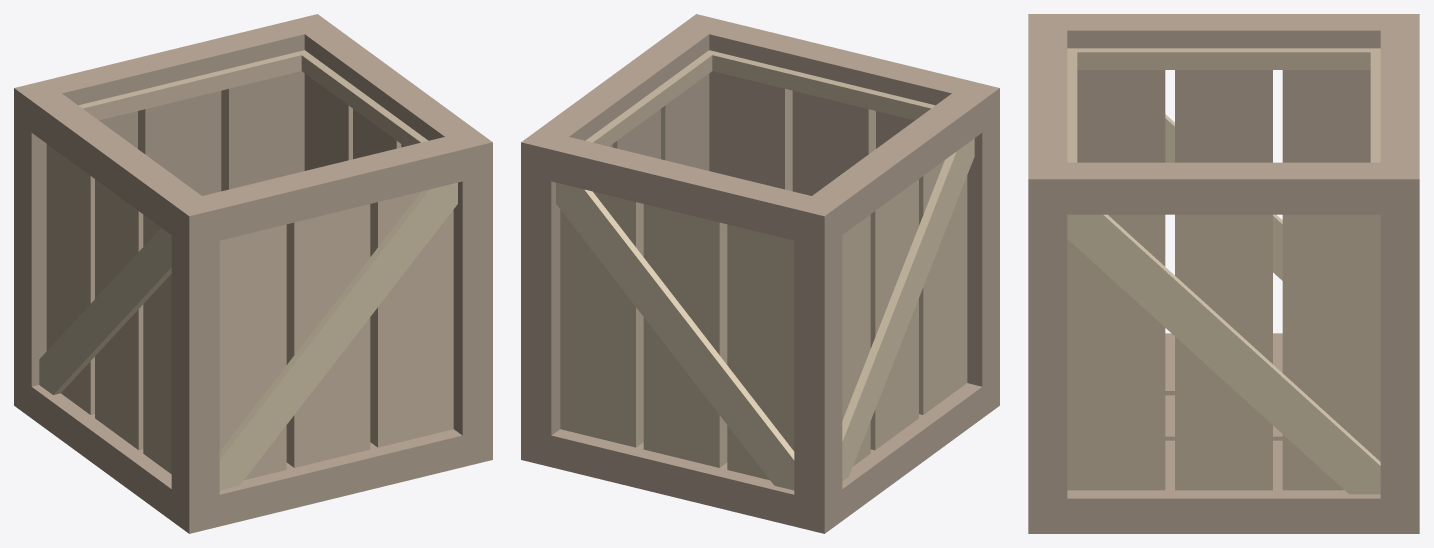
Rendered from Prop_Crate_1_Open.glb.
3 views of the same model, side by side, from view 1: azimuth 30°, elevation 25°; view 2: azimuth 150°, elevation 25°; view 3: azimuth 270°, elevation 25° (orthographic). The views are drawn at different scales.
Parts seen in each view (by area): view 1: object5, object2, object3; view 2: object5, object4, object3; view 3: object5, object6, object3.
Part boxes in pixels (left/top/right/bottom): object5: left=14, top=14, right=492, bottom=533; object2: left=219, top=182, right=457, bottom=490; object3: left=39, top=227, right=171, bottom=394; object5: left=521, top=14, right=999, bottom=533; object4: left=556, top=182, right=794, bottom=490; object3: left=842, top=138, right=974, bottom=481; object5: left=1028, top=14, right=1419, bottom=533; object6: left=1067, top=214, right=1380, bottom=494; object3: left=1165, top=114, right=1282, bottom=280.
Size of the model in its own units: 1 by 1 by 1.
